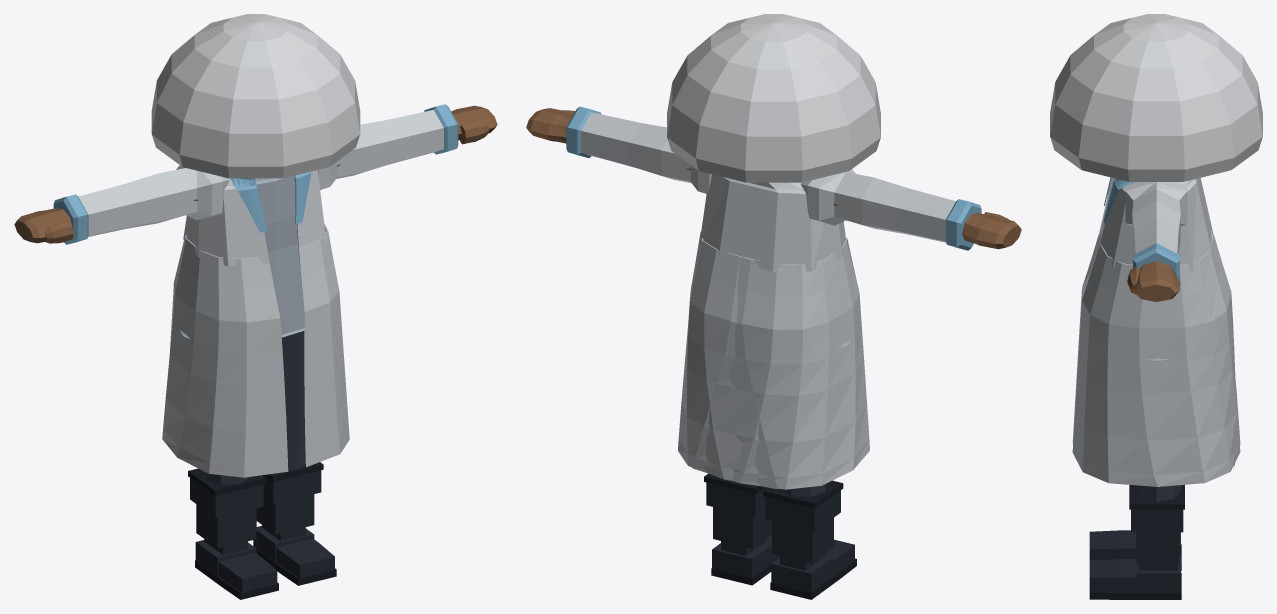
The model's file is city-commuter-52a53f.glb.
3 renders of one model, left to right at view 1: azimuth 30°, elevation 25°; view 2: azimuth 150°, elevation 25°; view 3: azimuth 270°, elevation 25°, orthographic. The views are drawn at different scales.
Visible parts, largest first — view 1: city-commuter-52a53f; view 2: city-commuter-52a53f; view 3: city-commuter-52a53f.
Part boxes in pixels (box(x1,y1,x2,y2)): city-commuter-52a53f: box(14, 14, 497, 599); city-commuter-52a53f: box(526, 14, 1021, 599); city-commuter-52a53f: box(1050, 14, 1262, 599).
Bounding box in the file's own units: 1.67 × 1.87 × 0.6509.
